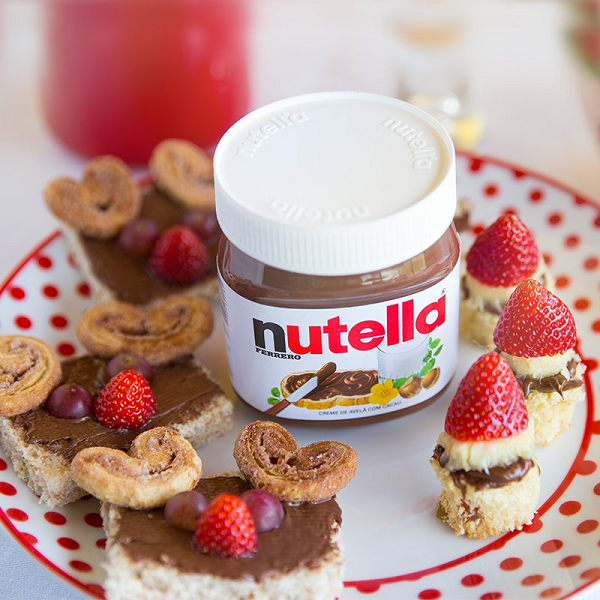nutella: (211, 88, 462, 428)
